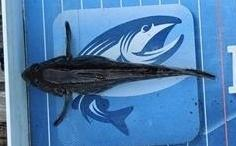Janitor Fish: (22, 21, 217, 127)
